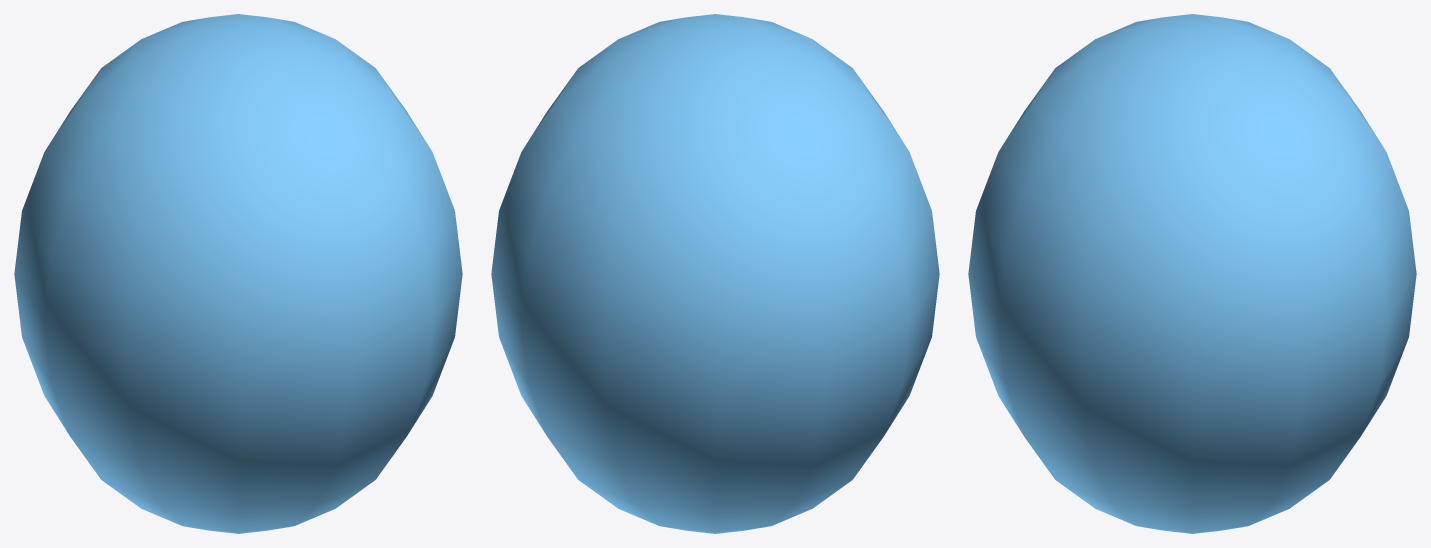
Rendered from Glaciarte_stage2.obj.
3 views of the same model, side by side, from view 1: azimuth 30°, elevation 25°; view 2: azimuth 150°, elevation 25°; view 3: azimuth 270°, elevation 25° (orthographic).
Bounding box in the file's own units: 2 × 2.4 × 2.
